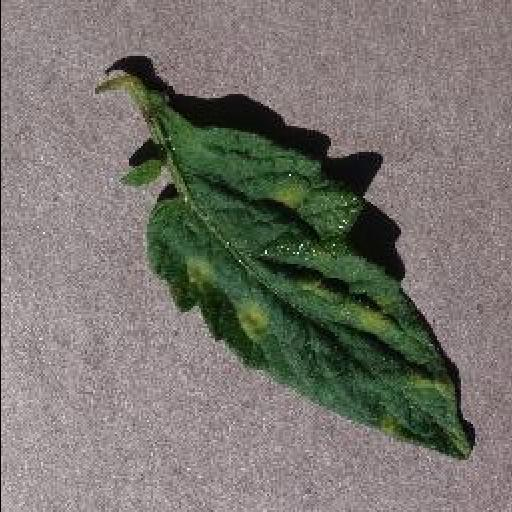disease_tomato: (144, 124, 474, 458)
